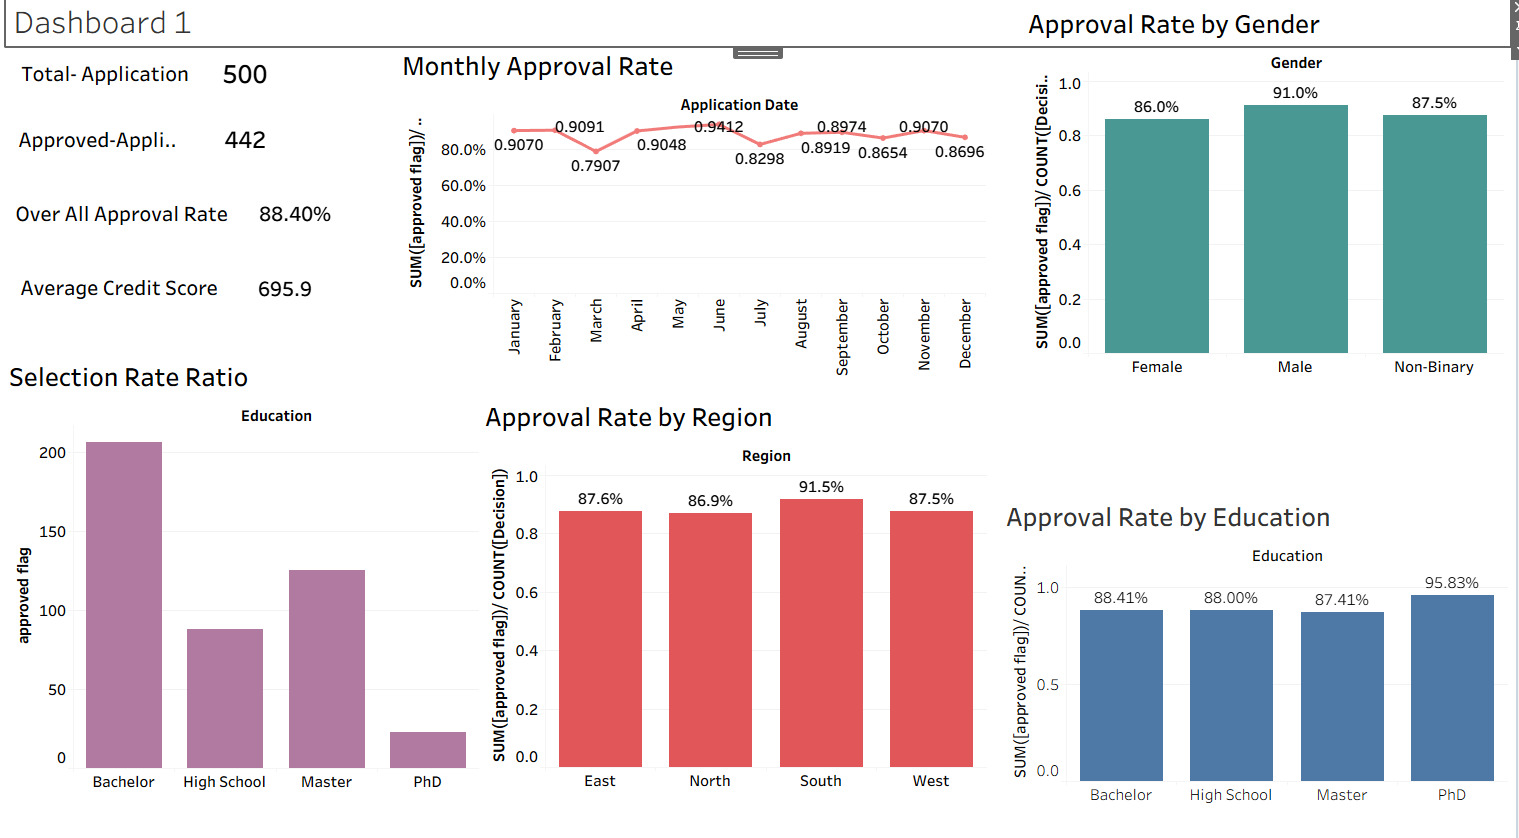

The page's visual inventory and layout, read from the dashboard file:
{"tool":"tableau","page":{"name":"Dashboard 1","canvas":[1520,860],"ordinal":0},"visuals":[{"type":"title","box":[8,8,1504,50]},{"type":"worksheet","title":"Sheet 5","mark":"Bar","rows":["Calculation_0534947973091332"],"cols":["gender"],"box":[1026,14,480,376]},{"type":"worksheet","title":"Sheet 8","mark":"Line","rows":["Calculation_0534947979857927"],"cols":["application_date"],"box":[400,56,588,349]},{"type":"text","box":[20,70,175,30]},{"type":"worksheet","title":"Sheet 1","mark":"Automatic","box":[214,75,85,79]},{"type":"text","box":[17,136,161,30]},{"type":"worksheet","title":"Sheet 2","mark":"Automatic","box":[212,140,168,94]},{"type":"text","box":[14,210,220,30]},{"type":"worksheet","title":"Sheet 3","mark":"Automatic","box":[257,212,131,65]},{"type":"text","box":[19,284,205,30]},{"type":"worksheet","title":"Sheet 4","mark":"Automatic","box":[238,287,506,284]},{"type":"worksheet","title":"Sheet 9","mark":"Automatic","rows":["Calculation_0534947960328195"],"cols":["education"],"box":[7,367,474,453]},{"type":"worksheet","title":"Sheet 6","mark":"Automatic","rows":["Calculation_0534947976908805"],"cols":["region"],"box":[483,407,506,397]},{"type":"worksheet","title":"Sheet 7","mark":"Automatic","rows":["Calculation_0534947977900038"],"cols":["education"],"box":[1004,507,506,326]}]}

Visuals, with their boxes in screenshot pixels (x1, y1, x2, y2), scaled from the page's 1520x860 canvas onto the 1519x838 screenshot:
title: box=[8, 8, 1511, 57]
"Sheet 5" worksheet (Bar marks): box=[1025, 14, 1505, 380]
"Sheet 8" worksheet (Line marks): box=[400, 55, 987, 395]
text: box=[20, 68, 195, 97]
"Sheet 1" worksheet: box=[214, 73, 299, 150]
text: box=[17, 133, 178, 162]
"Sheet 2" worksheet: box=[212, 136, 380, 228]
text: box=[14, 205, 234, 234]
"Sheet 3" worksheet: box=[257, 207, 388, 270]
text: box=[19, 277, 224, 306]
"Sheet 4" worksheet: box=[238, 280, 744, 556]
"Sheet 9" worksheet: box=[7, 358, 481, 799]
"Sheet 6" worksheet: box=[483, 397, 988, 783]
"Sheet 7" worksheet: box=[1003, 494, 1509, 812]
